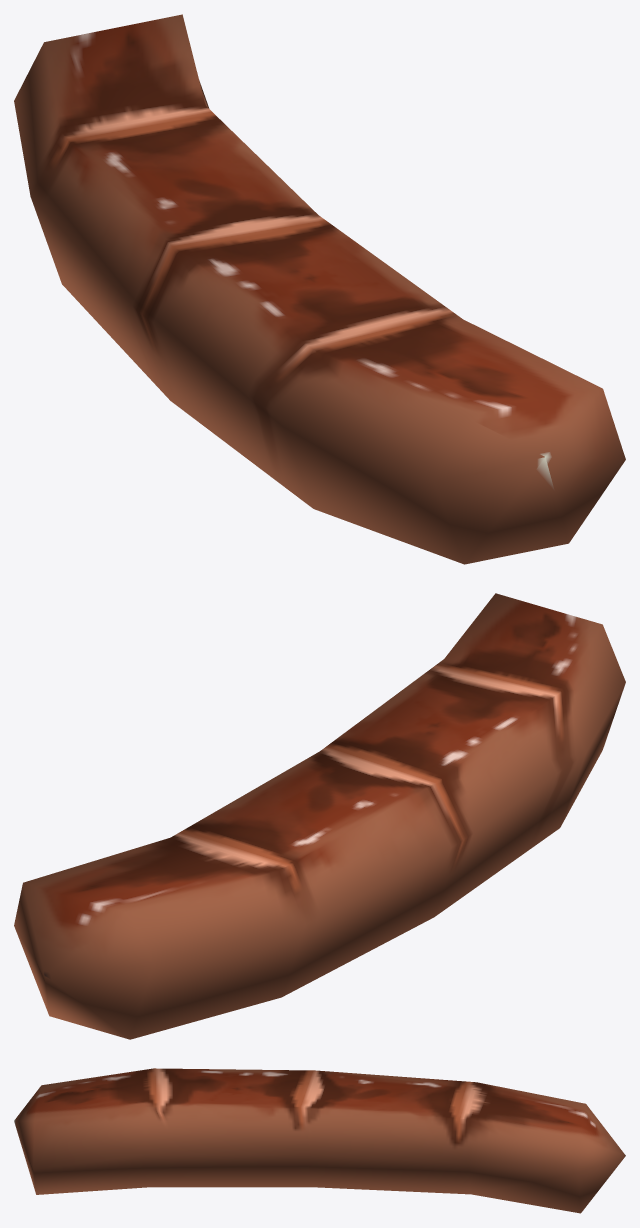
Rendered from SM_PROP_food_sausage_02.FBX.
3 views of the same model, one above another, from view 1: azimuth 30°, elevation 25°; view 2: azimuth 150°, elevation 25°; view 3: azimuth 270°, elevation 25° (orthographic). The views are drawn at different scales.
Parts seen in each view (by area): view 1: SM_PROP_food_sausage_02; view 2: SM_PROP_food_sausage_02; view 3: SM_PROP_food_sausage_02.
Part boxes in pixels (left/top/right/bottom): SM_PROP_food_sausage_02: left=14, top=14, right=625, bottom=564; SM_PROP_food_sausage_02: left=14, top=593, right=625, bottom=1039; SM_PROP_food_sausage_02: left=14, top=1068, right=625, bottom=1213.
Size of the model in its own units: 15.56 by 50.37 by 8.07.
